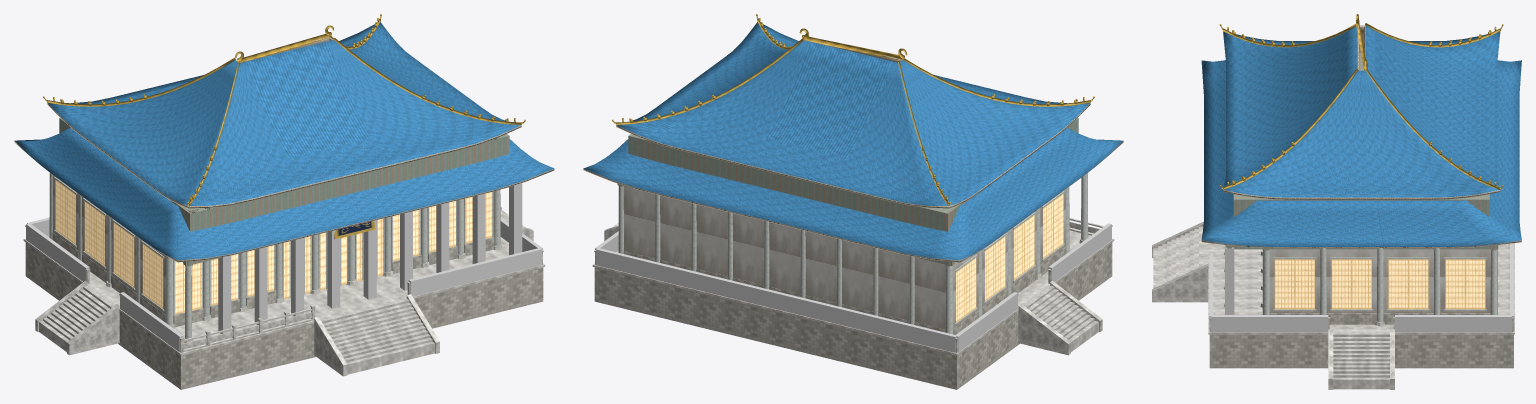
The model's file is jade_palace_hall.glb.
3 views of the same model, side by side, from view 1: azimuth 30°, elevation 25°; view 2: azimuth 150°, elevation 25°; view 3: azimuth 270°, elevation 25° (orthographic). The views are drawn at different scales.
Visible parts, largest first — view 1: JadePalaceTopRoof, JadePalaceDSkirt, JadePalacePodiumBase, JadePalaceLattice, JadePalacePodiumCap, JadePalaceClerestory, JadePalaceColumns, JadePalaceStairsfront, JadePalaceFrames, JadePalaceDado, JadePalaceRail-convcolonly.001, JadePalaceTopRoofRidges (+18 smaller); view 2: JadePalaceTopRoof, JadePalaceDSkirt, JadePalaceWalls, JadePalacePodiumBase, JadePalaceRail-convcolonly.004, JadePalaceClerestory, JadePalaceColumns, JadePalaceLattice, JadePalaceTopRoofRidges, JadePalaceStairsleft, JadePalacePodiumCap, JadePalaceDado (+5 smaller); view 3: JadePalaceTopRoof, JadePalaceDSkirt, JadePalaceLattice, JadePalacePodiumBase, JadePalacePodiumCap, JadePalaceWalls, JadePalaceStairsright, JadePalaceColumns, JadePalaceStairsfront, JadePalaceRail-convcolonly.002, JadePalaceTopRoofRidges, JadePalaceRail-convcolonly.003 (+10 smaller).
Boxes of the visible parts, bbox=[...] form: JadePalaceTopRoof: bbox=[47, 22, 521, 208]; JadePalaceDSkirt: bbox=[14, 127, 554, 262]; JadePalacePodiumBase: bbox=[25, 242, 543, 389]; JadePalaceLattice: bbox=[55, 179, 492, 314]; JadePalacePodiumCap: bbox=[23, 235, 545, 355]; JadePalaceClerestory: bbox=[59, 118, 509, 231]; JadePalaceColumns: bbox=[49, 173, 500, 338]; JadePalaceStairsfront: bbox=[321, 298, 434, 374]; JadePalaceFrames: bbox=[54, 177, 493, 314]; JadePalaceDado: bbox=[52, 232, 494, 327]; JadePalaceRail-convcolonly.001: bbox=[408, 248, 541, 296]; JadePalaceTopRoofRidges: bbox=[47, 19, 521, 205]; JadePalaceTopRoof: bbox=[616, 22, 1090, 208]; JadePalaceDSkirt: bbox=[583, 127, 1123, 262]; JadePalaceWalls: bbox=[623, 186, 1065, 329]; JadePalacePodiumBase: bbox=[594, 242, 1112, 389]; JadePalaceRail-convcolonly.004: bbox=[596, 248, 956, 352]; JadePalaceClerestory: bbox=[628, 118, 1078, 231]; JadePalaceColumns: bbox=[618, 173, 1088, 334]; JadePalaceLattice: bbox=[956, 193, 1063, 322]; JadePalaceTopRoofRidges: bbox=[616, 19, 1090, 205]; JadePalaceStairsleft: bbox=[1023, 286, 1098, 351]; JadePalacePodiumCap: bbox=[592, 230, 1114, 355]; JadePalaceDado: bbox=[623, 246, 1066, 334]; JadePalaceTopRoof: bbox=[1223, 25, 1500, 199]; JadePalaceDSkirt: bbox=[1201, 60, 1521, 247]; JadePalaceLattice: bbox=[1274, 259, 1485, 309]; JadePalacePodiumBase: bbox=[1209, 334, 1513, 368]; JadePalacePodiumCap: bbox=[1208, 243, 1514, 334]; JadePalaceWalls: bbox=[1269, 249, 1490, 312]; JadePalaceStairsright: bbox=[1333, 332, 1389, 389]; JadePalaceColumns: bbox=[1262, 248, 1497, 321]; JadePalaceStairsfront: bbox=[1153, 226, 1208, 288]; JadePalaceRail-convcolonly.002: bbox=[1211, 315, 1328, 332]; JadePalaceTopRoofRidges: bbox=[1222, 14, 1500, 189]; JadePalaceRail-convcolonly.003: bbox=[1395, 315, 1511, 332].
Size of what is drawn, in the model's own units: 36.9 by 19 by 26.02.
Materials: 12 (12 with a texture image).
